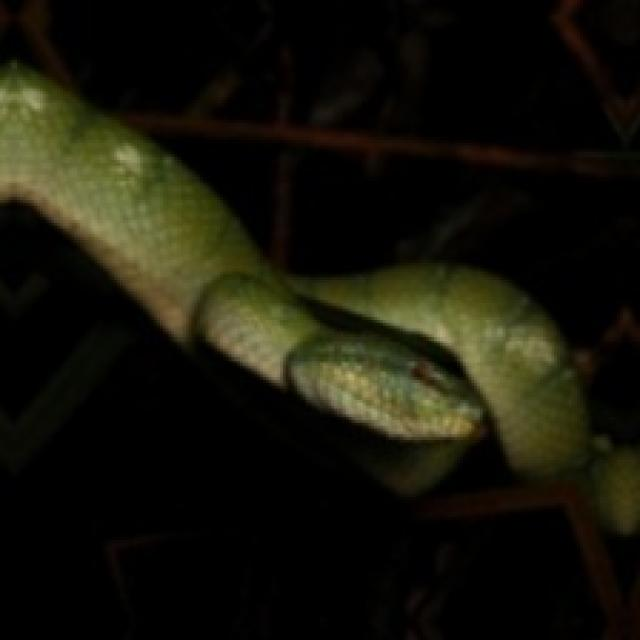north ph temple pitviper: (0, 63, 637, 531)
